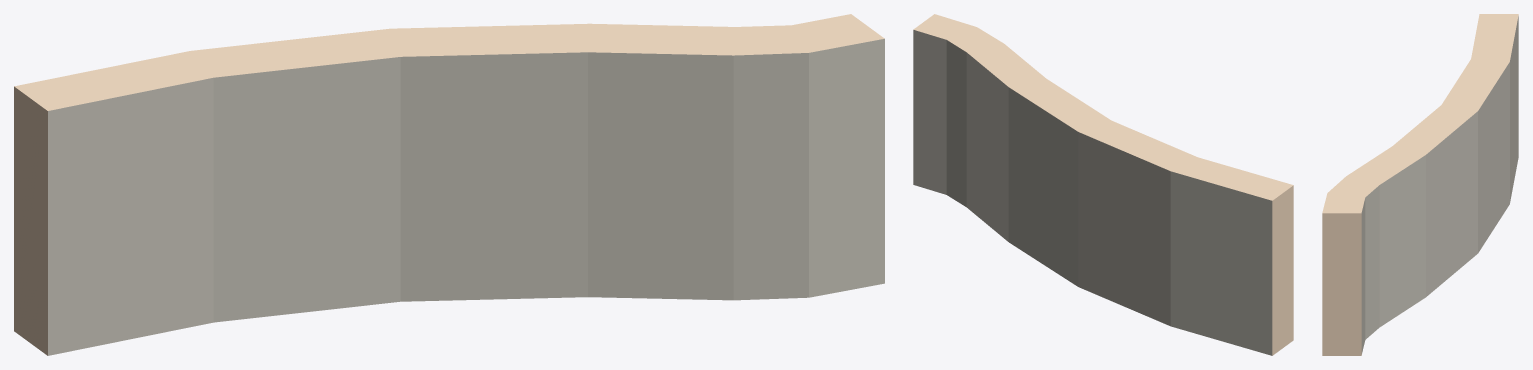
The model's file is Tiered_Retaining_Wall_Esse_2x3_Mid.glb.
3 renders of one model, left to right at view 1: azimuth 30°, elevation 25°; view 2: azimuth 150°, elevation 25°; view 3: azimuth 270°, elevation 25°, orthographic. The views are drawn at different scales.
Visible parts, largest first — view 1: Tiered_Retaining_Wall_Esse_2x3_Mid; view 2: Tiered_Retaining_Wall_Esse_2x3_Mid; view 3: Tiered_Retaining_Wall_Esse_2x3_Mid.
Boxes of the visible parts, <box> form: Tiered_Retaining_Wall_Esse_2x3_Mid: <box>14,14,884,355</box>; Tiered_Retaining_Wall_Esse_2x3_Mid: <box>913,14,1293,355</box>; Tiered_Retaining_Wall_Esse_2x3_Mid: <box>1322,14,1518,355</box>.
Size of the model in its own units: 300 by 100 by 125.
